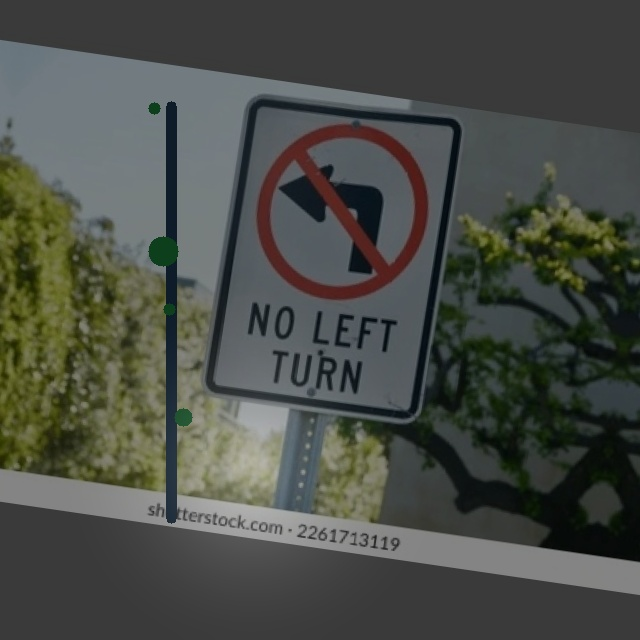Left_Turn_Prohibited: (237, 108, 444, 318)
